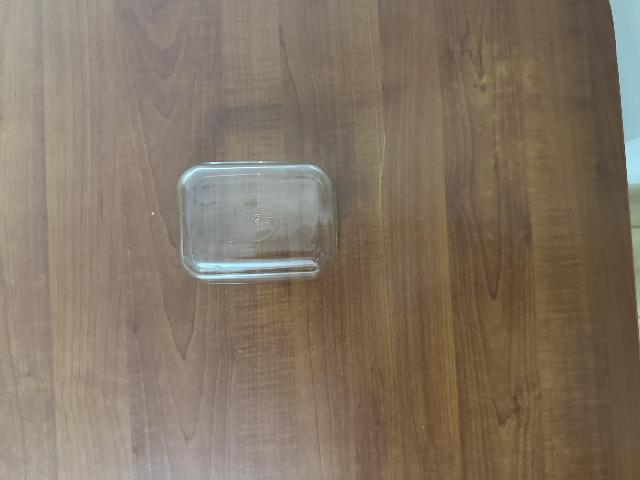Cam: (178, 151, 341, 283)
